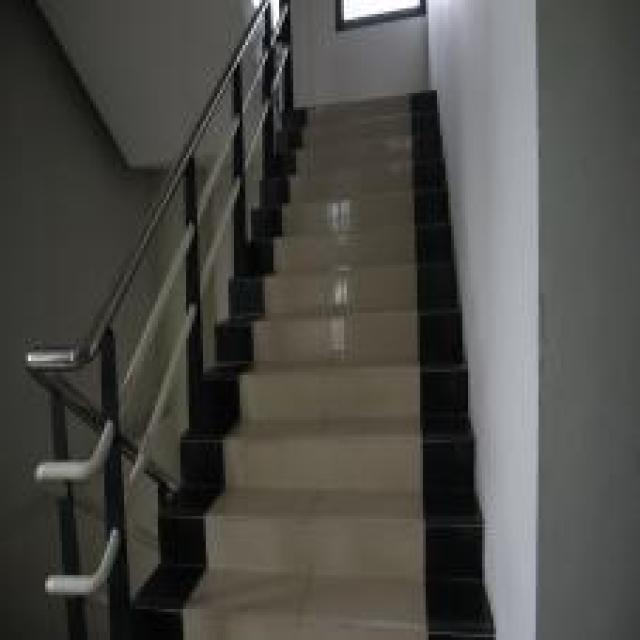upstair: (258, 170, 452, 624)
